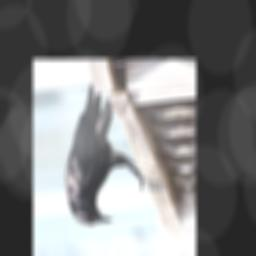Crow: (51, 78, 149, 228)
